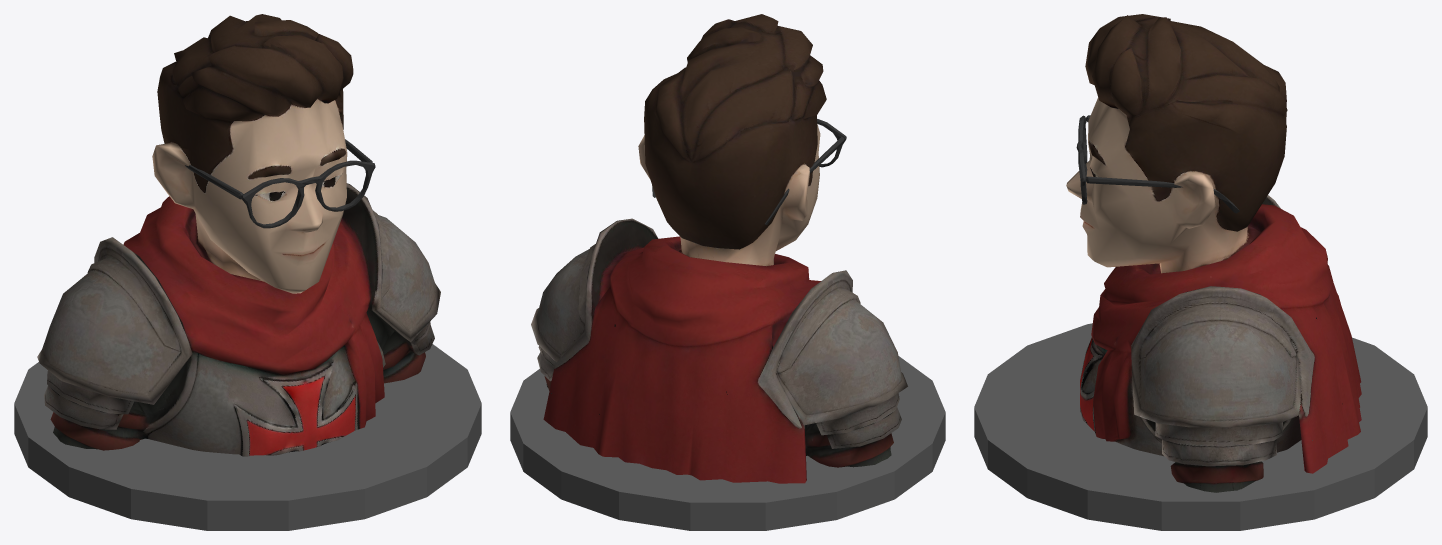
The model's file is David.glb.
3 views of the same model, side by side, from view 1: azimuth 30°, elevation 25°; view 2: azimuth 150°, elevation 25°; view 3: azimuth 270°, elevation 25° (orthographic). The views are drawn at different scales.
Visible parts, largest first — view 1: David Low, Cylinder, PlaneFBXASC; view 2: David Low, Cylinder, PlaneFBXASC; view 3: David Low, Cylinder, PlaneFBXASC.
Part boxes in pixels (box(x1,y1,x2,y2)): David Low: box(37, 14, 440, 456); Cylinder: box(14, 344, 481, 530); PlaneFBXASC: box(185, 139, 375, 228); David Low: box(531, 14, 907, 483); Cylinder: box(510, 356, 945, 530); PlaneFBXASC: box(652, 119, 846, 224); David Low: box(1066, 14, 1361, 492); Cylinder: box(974, 323, 1427, 530); PlaneFBXASC: box(1076, 115, 1239, 213).
Bounding box in the file's own units: 1.09 × 1.11 × 1.11.
Materials: 3 (1 with a texture image).
